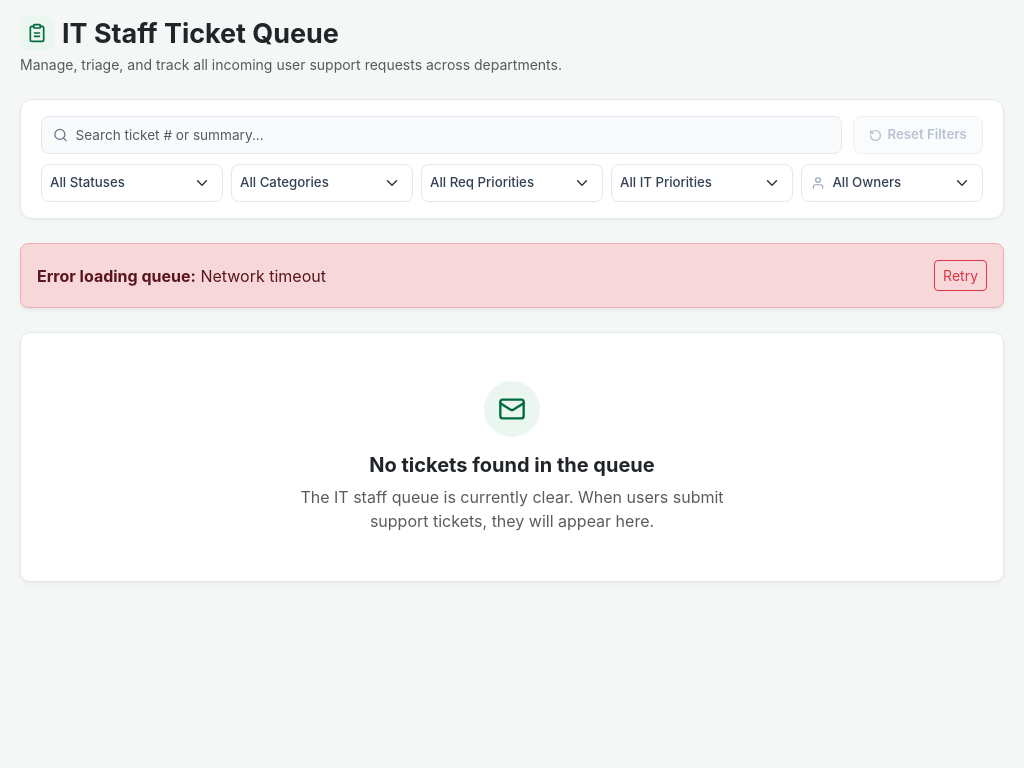
Test case: StaffTicketQueue Component (StaffTicketQueue.test.tsx) › UI-05: Empty & No-Results States › displays error state with retry button when API fails
Expected: the message "Error loading queue: Network timeout Retry" is shown, top-left (20, 243), bottom-right (1004, 308)
Expected: the text "Error loading queue: Network timeout" is shown, top-left (37, 264), bottom-right (326, 288)
Click the button with test id "staff-queue-retry-btn".
click(961, 276)  # box top-left (934, 260), bottom-right (987, 291)
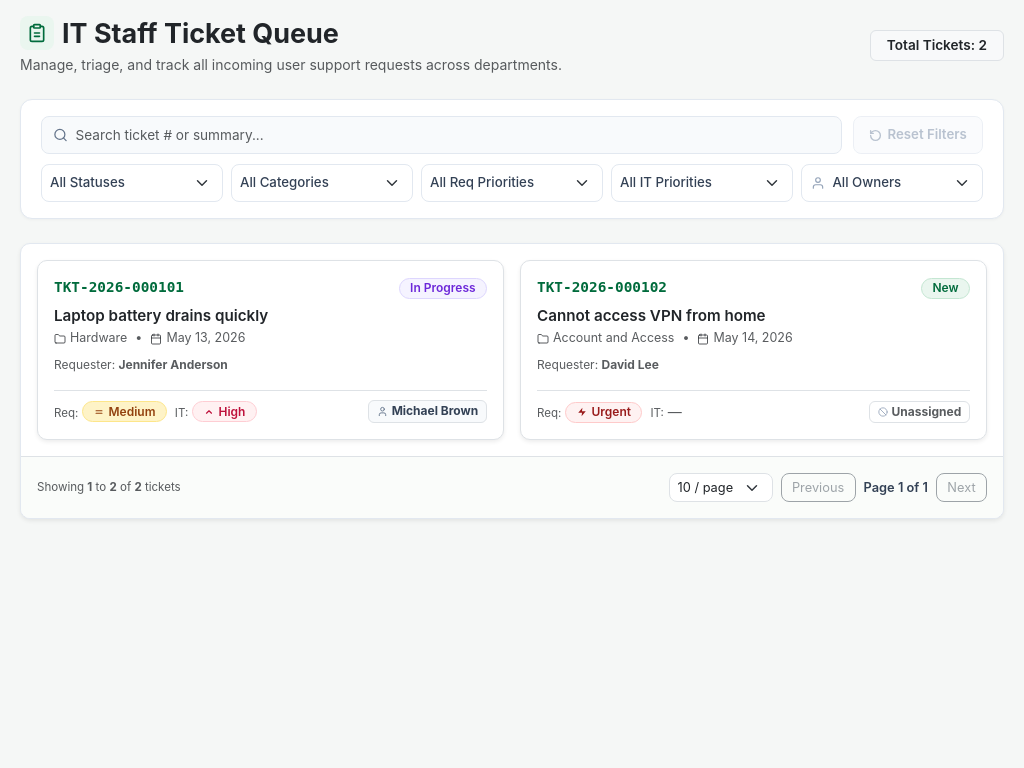
Now the message with test id "staff-queue-error" is gone
